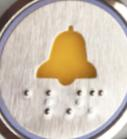Braille: (45, 90, 61, 115), (67, 91, 83, 115), (24, 89, 38, 115), (90, 89, 104, 114)
